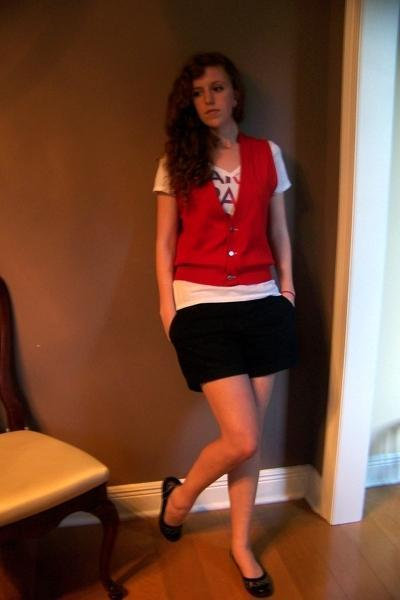jacket: (170, 140, 277, 286)
shirt: (153, 141, 294, 308)
shoe: (143, 492, 273, 599)
skirt: (170, 295, 293, 391)
